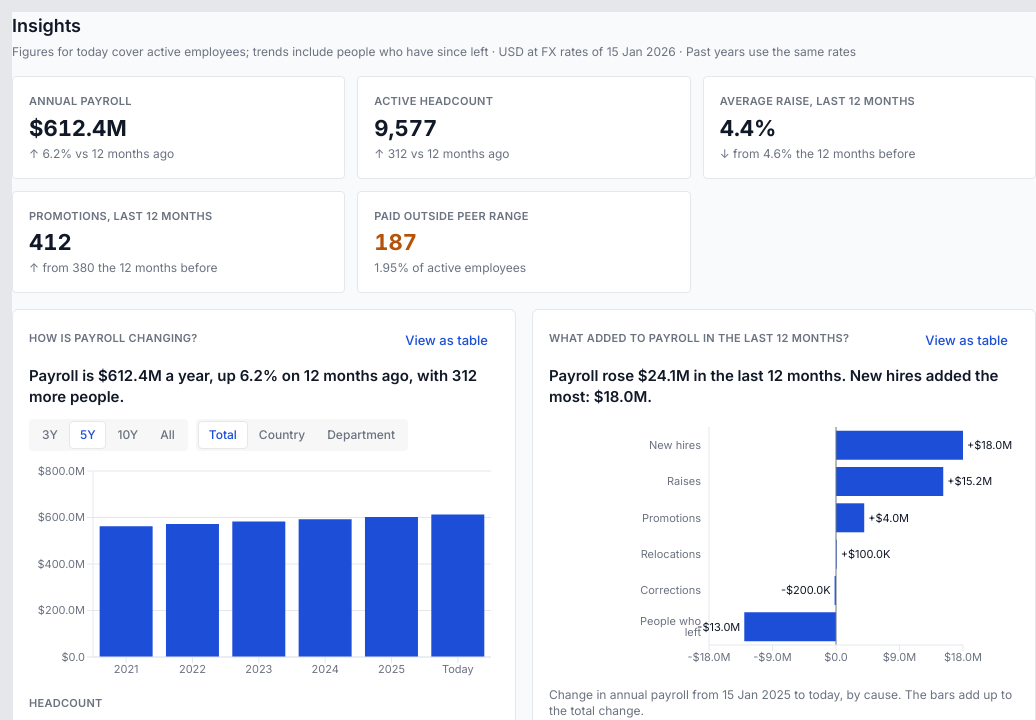
InsightsPage › answers how payroll is changing and shows the year table
Expected: the text "Payroll is $612.4M a year, up 6.2% on 12 months ago, with 312 more people." is shown, [29, 366, 499, 407]
Click the button "View as table" in the row of "How is payroll changing?" at (447, 340), box [394, 326, 499, 354]
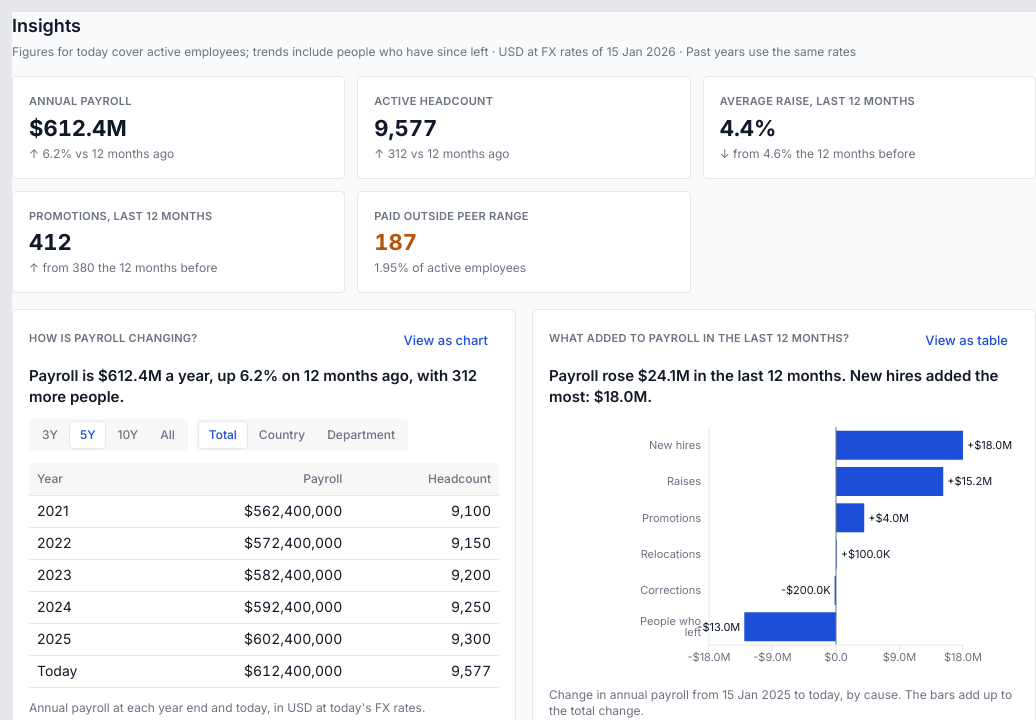
Expected: the column headings read "Year", "Payroll", "Headcount", in this order, [29, 463, 135, 495]; [135, 463, 350, 495]; [350, 463, 499, 495]
Expected: the text "$612,400,000" is shown, [135, 655, 350, 687]
Expected: the text "9,577" is shown, [350, 655, 499, 687]
Click the radio button labelled "Country" at (282, 435), box [248, 421, 316, 449]
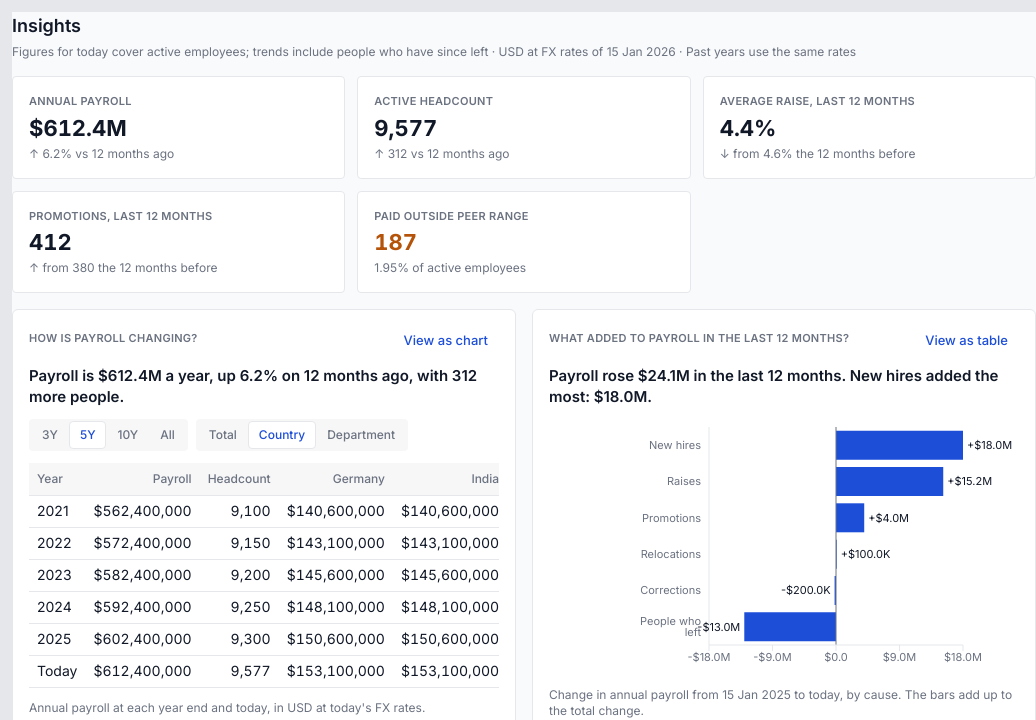
Expected: the text "$153,100,000" is shown 2 times, [279, 655, 393, 687]; [393, 655, 499, 687]
Click the radio button labelled "3Y" at (50, 435), box [31, 421, 69, 449]
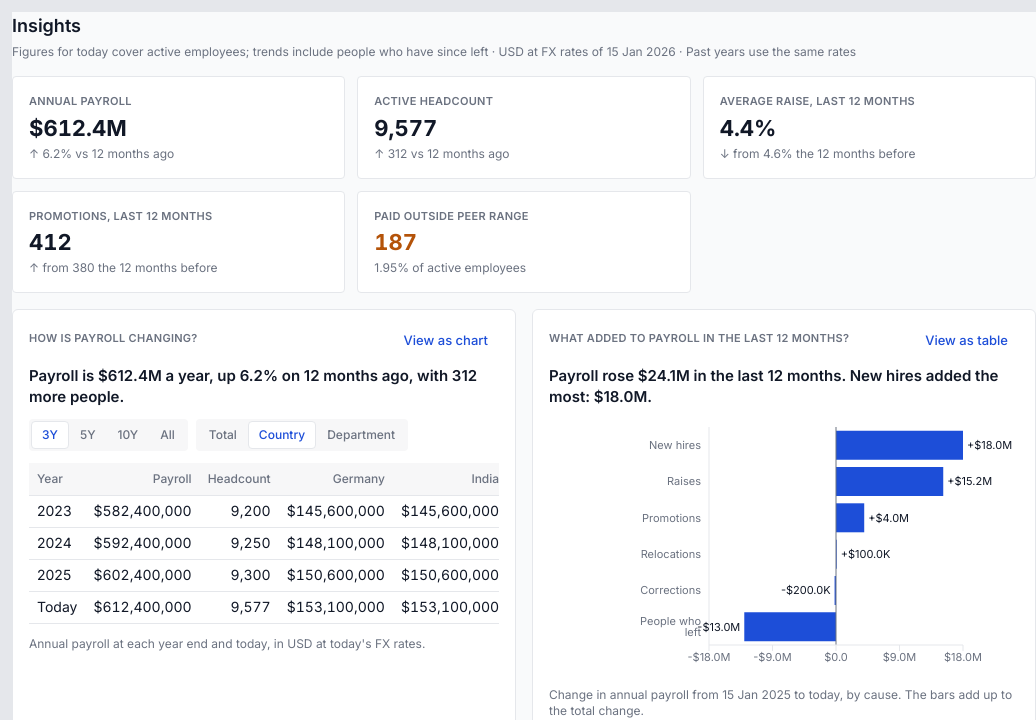
Expected: the number of rows is 5, [29, 463, 499, 495]; [29, 495, 499, 527]; [29, 527, 499, 559]; [29, 559, 499, 591]; [29, 591, 499, 623]
